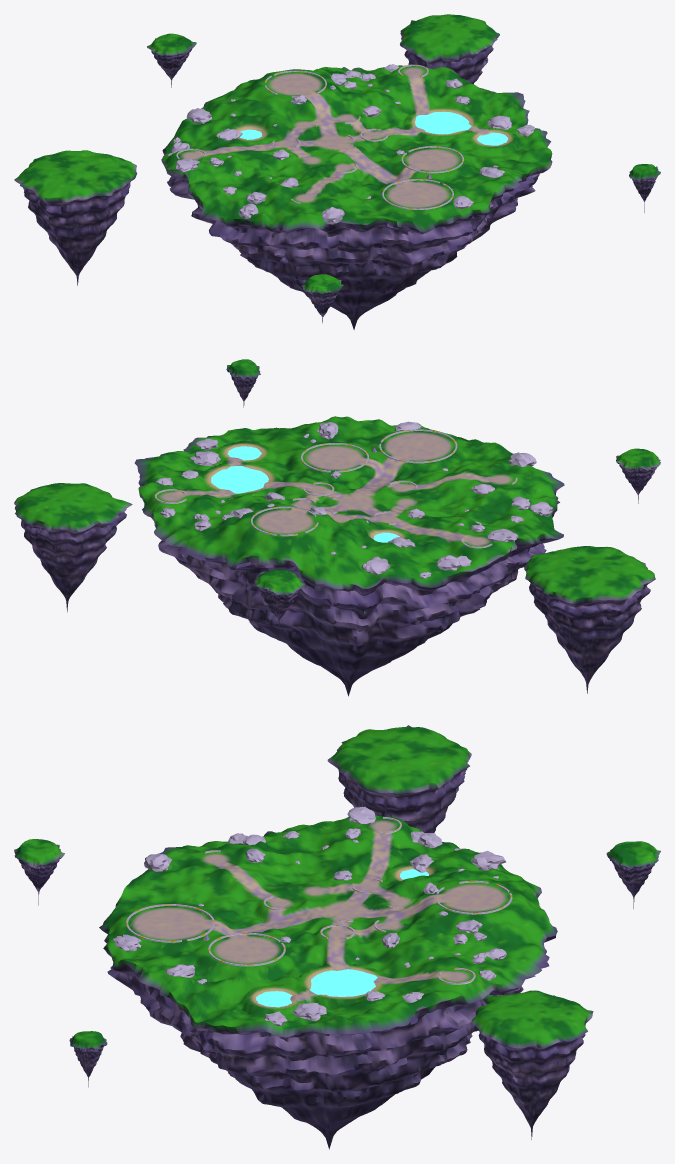
File: CB_Terreno.fbx
3 views of the same model, one above another, from view 1: azimuth 30°, elevation 25°; view 2: azimuth 150°, elevation 25°; view 3: azimuth 270°, elevation 25° (orthographic). The views are drawn at different scales.
Parts seen in each view (by area): view 1: CB_Terreno_Ilha_Terreno, CB_Terreno_ObsIsland_Terreno, CB_Terreno_AltarIsland_Terreno, CB_Terreno_Afloramentos_PedraLilas, CB_Terreno_Lagos_Agua, CB_Terreno_Ilhota3_Terreno, CB_Terreno_Ilhota1_Terreno, CB_Terreno_Muretas_PedraLilas, CB_Terreno_Ilhota2_Terreno, CB_Terreno_Muretas_PedraPerolada; view 2: CB_Terreno_Ilha_Terreno, CB_Terreno_ObsIsland_Terreno, CB_Terreno_AltarIsland_Terreno, CB_Terreno_Afloramentos_PedraLilas, CB_Terreno_Lagos_Agua, CB_Terreno_Ilhota3_Terreno, CB_Terreno_Ilhota1_Terreno, CB_Terreno_Muretas_PedraLilas, CB_Terreno_Ilhota2_Terreno, CB_Terreno_Muretas_PedraPerolada; view 3: CB_Terreno_Ilha_Terreno, CB_Terreno_ObsIsland_Terreno, CB_Terreno_AltarIsland_Terreno, CB_Terreno_Afloramentos_PedraLilas, CB_Terreno_Lagos_Agua, CB_Terreno_Ilhota3_Terreno, CB_Terreno_Ilhota1_Terreno, CB_Terreno_Muretas_PedraLilas, CB_Terreno_Ilhota2_Terreno, CB_Terreno_Muretas_PedraPerolada.
Part boxes in pixels (left/top/right/bottom): CB_Terreno_Ilha_Terreno: left=161, top=65, right=552, bottom=329; CB_Terreno_ObsIsland_Terreno: left=14, top=150, right=137, bottom=285; CB_Terreno_AltarIsland_Terreno: left=400, top=14, right=499, bottom=84; CB_Terreno_Afloramentos_PedraLilas: left=168, top=64, right=535, bottom=224; CB_Terreno_Lagos_Agua: left=240, top=111, right=508, bottom=145; CB_Terreno_Ilhota3_Terreno: left=147, top=33, right=196, bottom=87; CB_Terreno_Ilhota1_Terreno: left=301, top=274, right=343, bottom=323; CB_Terreno_Muretas_PedraLilas: left=176, top=64, right=463, bottom=209; CB_Terreno_Ilhota2_Terreno: left=629, top=164, right=660, bottom=212; CB_Terreno_Muretas_PedraPerolada: left=177, top=65, right=463, bottom=209; CB_Terreno_Ilha_Terreno: left=134, top=416, right=564, bottom=696; CB_Terreno_ObsIsland_Terreno: left=524, top=546, right=655, bottom=693; CB_Terreno_AltarIsland_Terreno: left=14, top=483, right=132, bottom=612; CB_Terreno_Afloramentos_PedraLilas: left=156, top=421, right=553, bottom=578; CB_Terreno_Lagos_Agua: left=211, top=446, right=399, bottom=542; CB_Terreno_Ilhota3_Terreno: left=254, top=569, right=305, bottom=627; CB_Terreno_Ilhota1_Terreno: left=616, top=448, right=660, bottom=503; CB_Terreno_Muretas_PedraLilas: left=155, top=429, right=517, bottom=547; CB_Terreno_Ilhota2_Terreno: left=226, top=359, right=260, bottom=407; CB_Terreno_Muretas_PedraPerolada: left=155, top=430, right=517, bottom=548; CB_Terreno_Ilha_Terreno: left=99, top=815, right=557, bottom=1149; CB_Terreno_ObsIsland_Terreno: left=327, top=725, right=471, bottom=832; CB_Terreno_AltarIsland_Terreno: left=470, top=990, right=593, bottom=1139; CB_Terreno_Afloramentos_PedraLilas: left=113, top=806, right=506, bottom=1025; CB_Terreno_Lagos_Agua: left=256, top=869, right=428, bottom=1007; CB_Terreno_Ilhota3_Terreno: left=606, top=841, right=660, bottom=908; CB_Terreno_Ilhota1_Terreno: left=14, top=839, right=64, bottom=905; CB_Terreno_Muretas_PedraLilas: left=126, top=817, right=512, bottom=983; CB_Terreno_Ilhota2_Terreno: left=69, top=1031, right=107, bottom=1087; CB_Terreno_Muretas_PedraPerolada: left=127, top=818, right=511, bottom=984.
Size of the model in its own units: 527 by 207 by 457.
